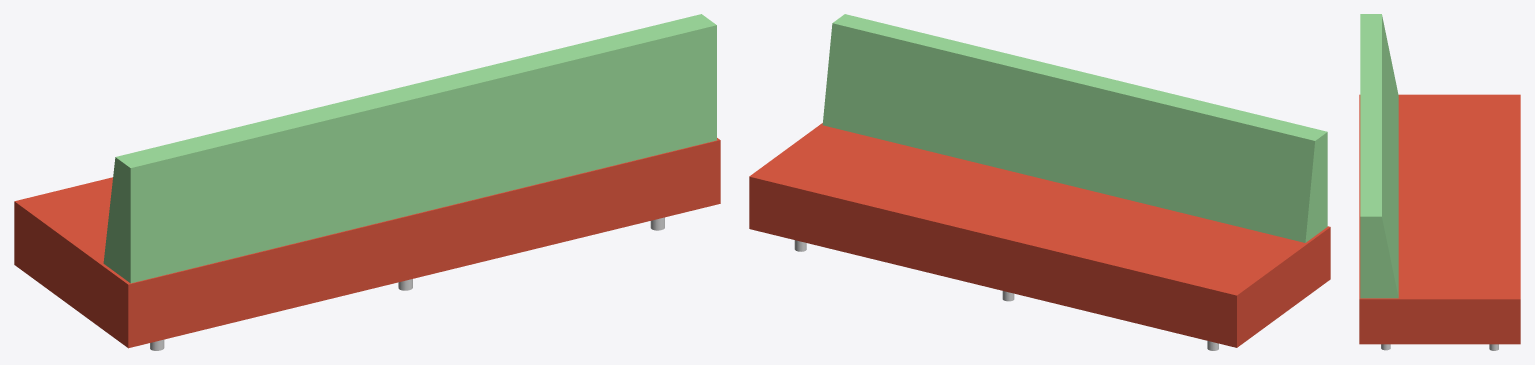
The model's file is sofa_1.glb.
The picture shows the model from 3 angles, left to right: view 1: azimuth 30°, elevation 25°; view 2: azimuth 150°, elevation 25°; view 3: azimuth 270°, elevation 25°; orthographic projection. The views are drawn at different scales.
Visible parts, largest first — view 1: sofa_1_001.001; view 2: sofa_1_001.001; view 3: sofa_1_001.001.
Part boxes in pixels (left/top/right/bottom): sofa_1_001.001: left=14, top=14, right=720, bottom=350; sofa_1_001.001: left=749, top=14, right=1330, bottom=350; sofa_1_001.001: left=1359, top=14, right=1520, bottom=350.
Size of the model in its own units: 1.8 by 0.6 by 0.6.
